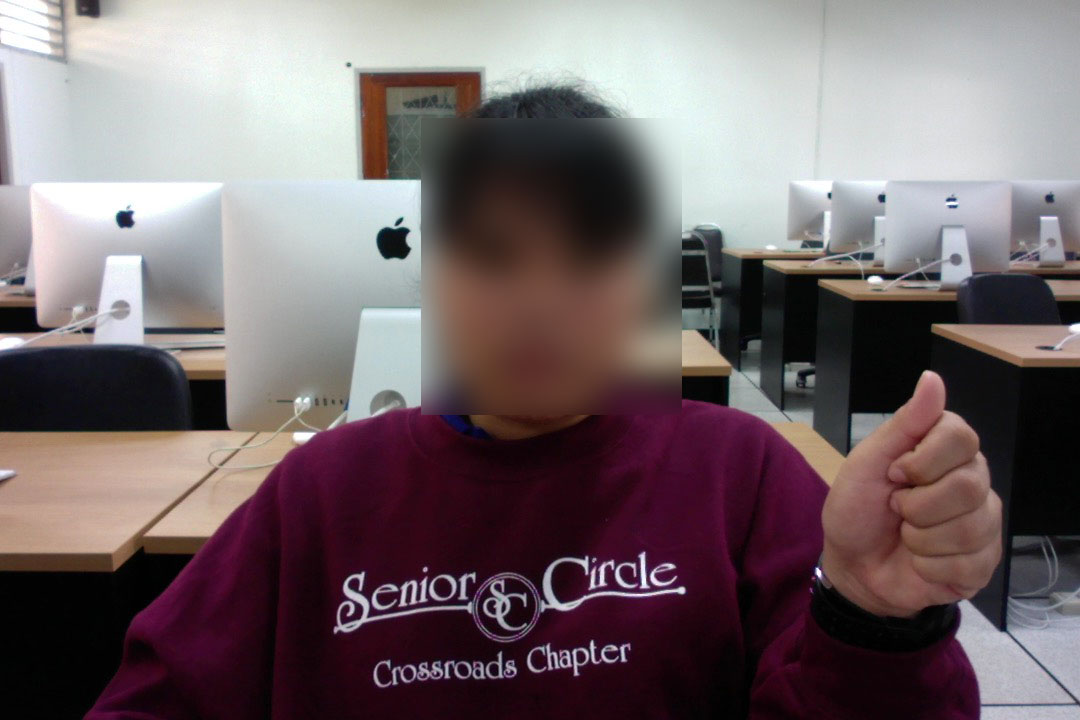or: (812, 358, 1028, 634)
